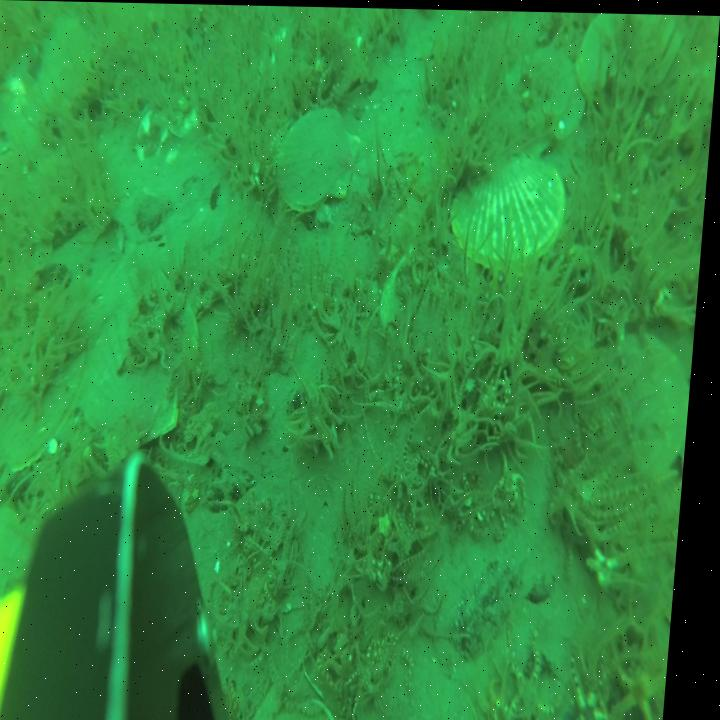scallop: (88, 289, 207, 457), (450, 161, 574, 263), (624, 328, 698, 472), (275, 101, 367, 209), (576, 10, 680, 94)
